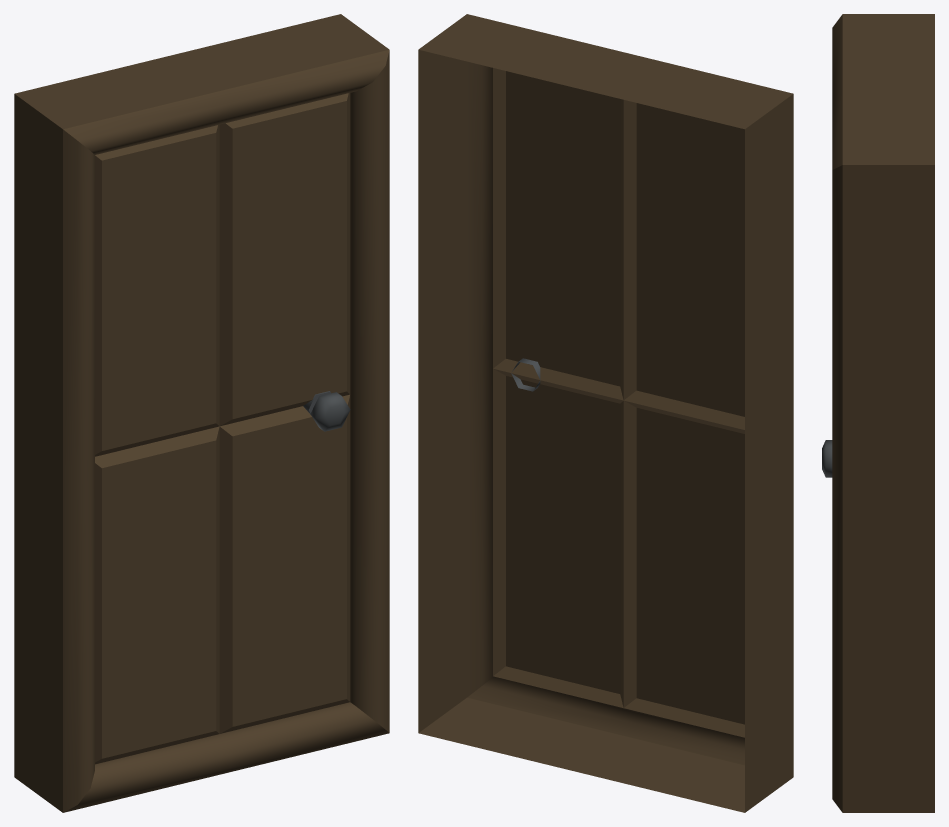
File: PS_Door04.fbx
3 views of the same model, side by side, from view 1: azimuth 30°, elevation 25°; view 2: azimuth 150°, elevation 25°; view 3: azimuth 270°, elevation 25° (orthographic). The views are drawn at different scales.
Visible parts, largest first — view 1: PS_Door04; view 2: PS_Door04; view 3: PS_Door04.
Part boxes in pixels (<box>): PS_Door04: <box>14,14,389,812</box>; PS_Door04: <box>418,14,793,812</box>; PS_Door04: <box>822,14,934,812</box>.
Bounding box in the file's own units: 1 × 2 × 0.3161.
